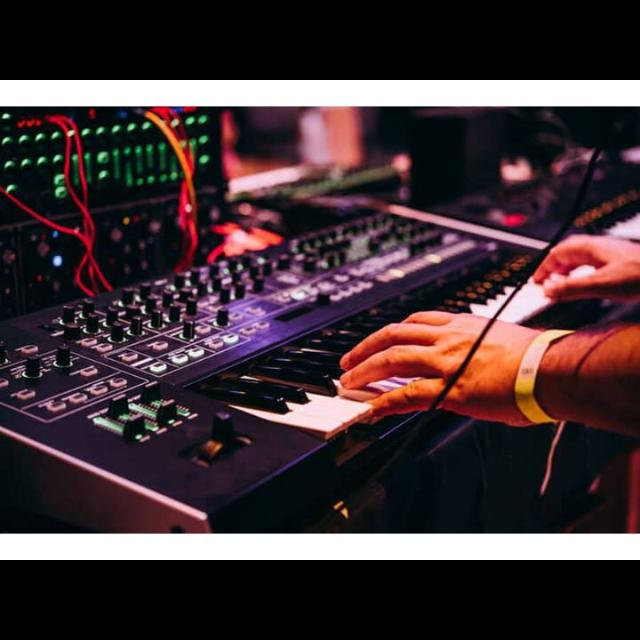Electronic-Keyboard: (8, 208, 532, 472)
